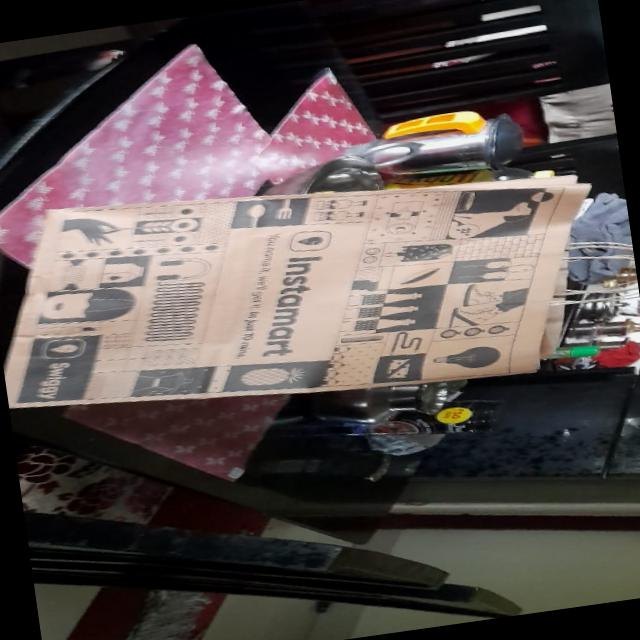Paper_Bag - Recyclable: (0, 131, 619, 446)
